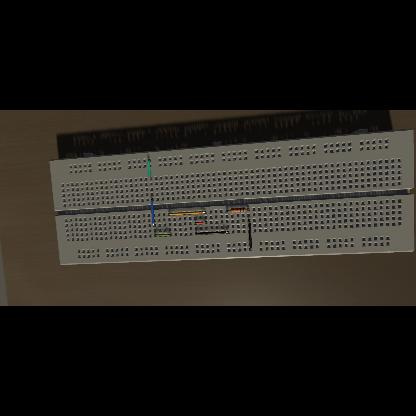breadboard: (50, 129, 414, 265)
resistor: (230, 208, 245, 212)
wire: (170, 211, 206, 215), (196, 231, 228, 235), (248, 219, 252, 250), (151, 198, 155, 226), (148, 160, 152, 178), (154, 233, 172, 236), (195, 222, 207, 224), (226, 210, 230, 212), (246, 209, 250, 210)
